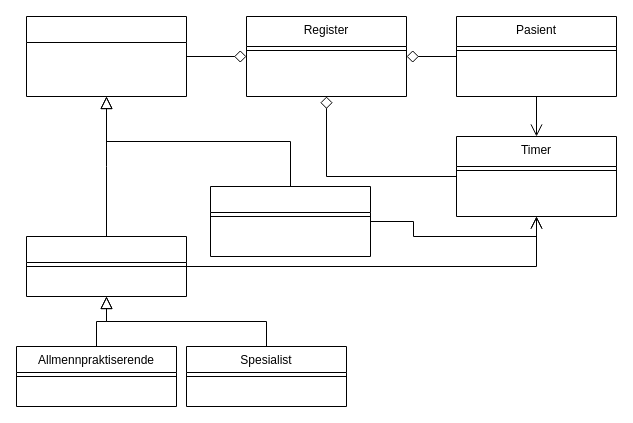
The diagram is 633 pixels wide and 423 high, and some of its shapes have lost their labels. Here are the shapes that lost their labels. From the top down, the box of each, then its label:
(26, 16, 186, 96): Ansatt
(210, 186, 370, 256): Sekretar
(26, 236, 186, 296): Lege
